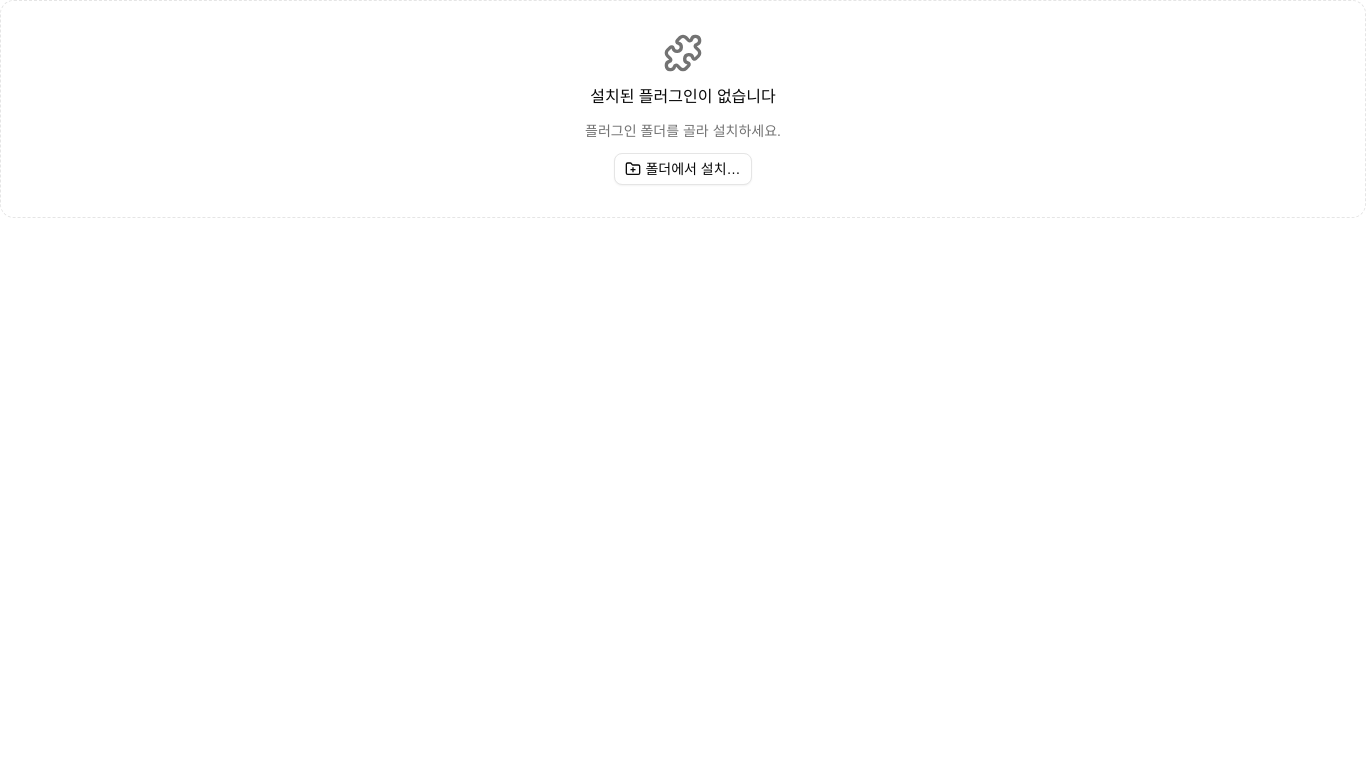
Test case: settings > plugins › T-ui-plugin-03 [Happy] install: pick folder → inspect → consent dialog → install with the previewed id/version and every requested permission
Click the button "폴더에서 설치…".
click(683, 169)  # box [614,153,752,185]
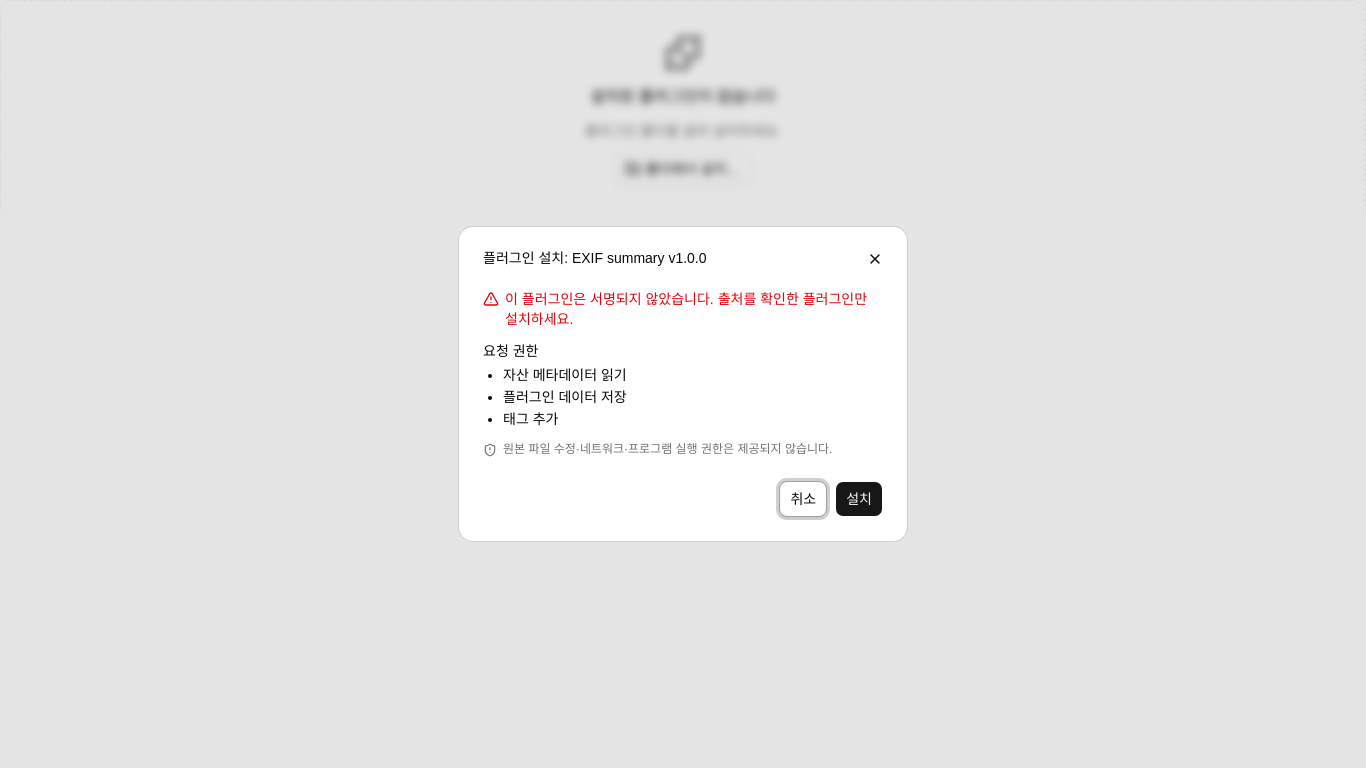
Now the text "이 플러그인은 서명되지 않았습니다. 출처를 확인한 플러그인만 설치하세요." is shown, box [483,289,883,329]
Now the list items read "자산 메타데이터 읽기", "플러그인 데이터 저장", "태그 추가", in this order, box [503,367,627,383]; [503,389,627,405]; [503,411,558,427]
Now the text "원본 파일 수정·네트워크·프로그램 실행 권한은 제공되지 않습니다." is shown, box [483,441,883,457]
Click the button "설치".
click(859, 499)  # box [835,481,883,517]
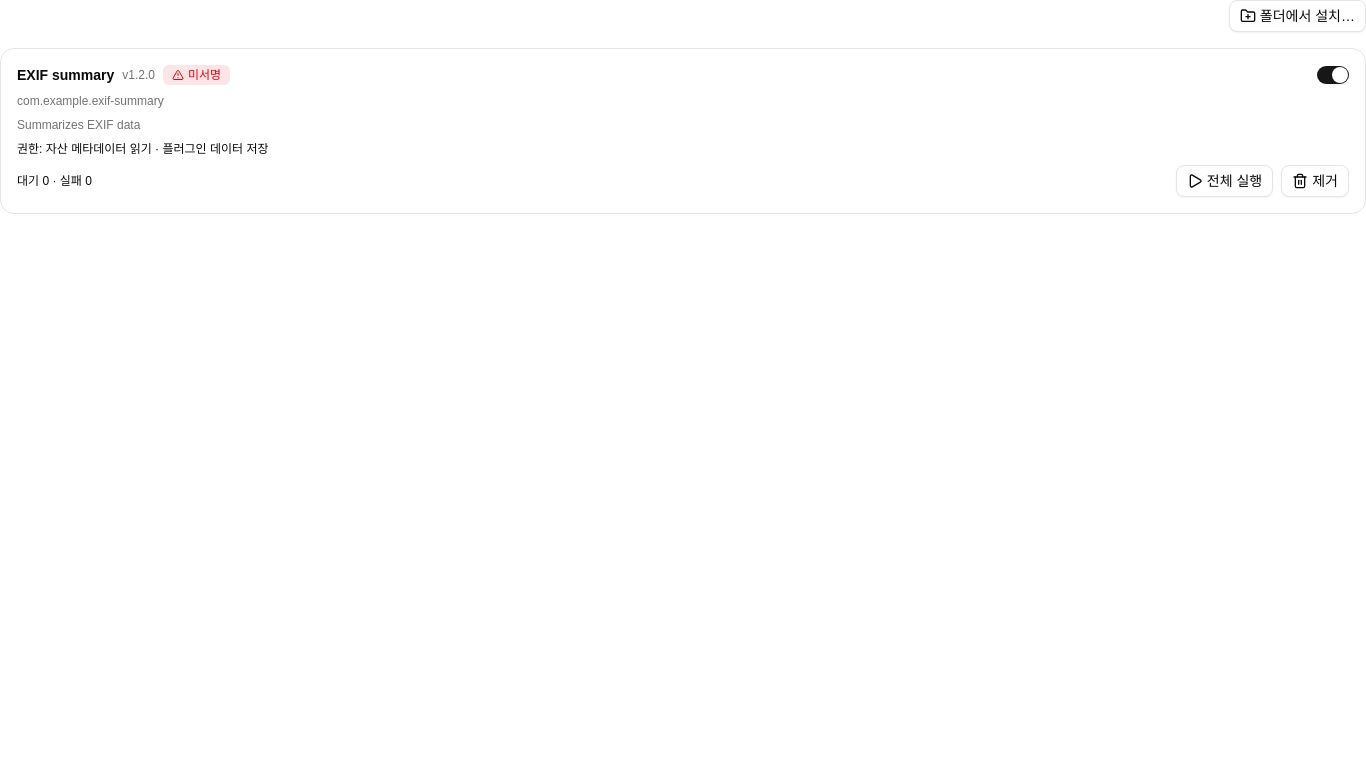
Now the dialog is gone
Now the list named "설치된 플러그인" is shown, box [0,48,1365,214]
